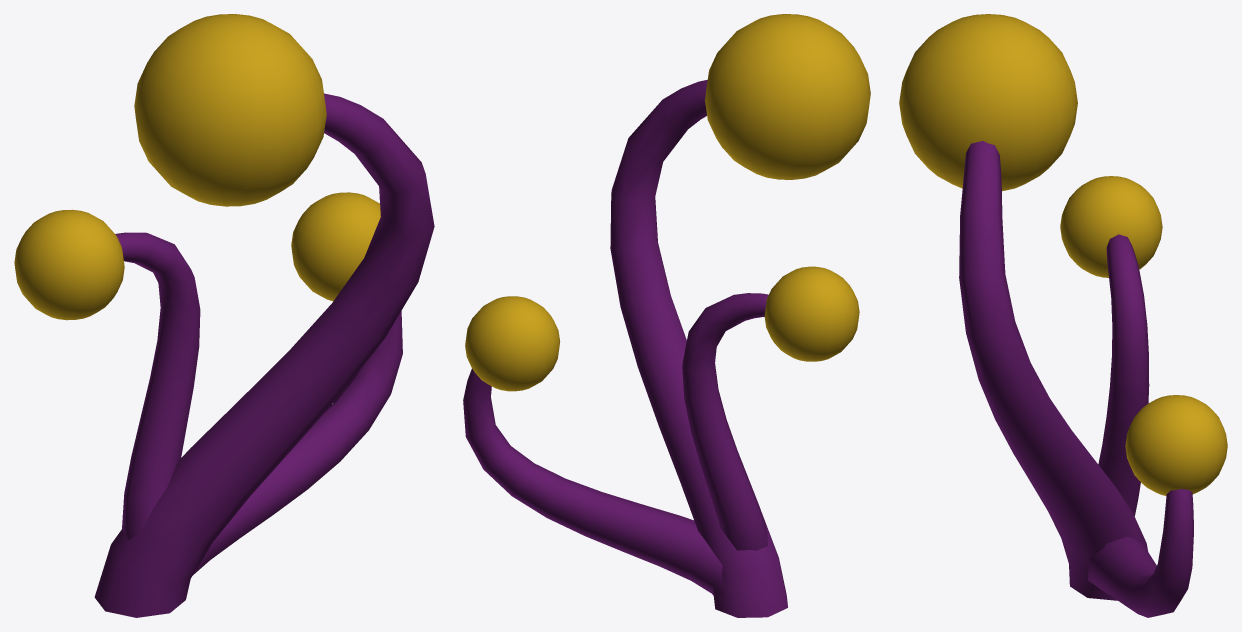
File: Tree Light-om4BJAL82T.glb
3 renders of one model, left to right at view 1: azimuth 30°, elevation 25°; view 2: azimuth 150°, elevation 25°; view 3: azimuth 270°, elevation 25°, orthographic. The views are drawn at different scales.
Visible parts, largest first — view 1: Tree_Light_1; view 2: Tree_Light_1; view 3: Tree_Light_1.
Part boxes in pixels (x1,y1,x2,y2): Tree_Light_1: (14, 14, 434, 617); Tree_Light_1: (463, 14, 870, 617); Tree_Light_1: (899, 14, 1227, 617).
Size of the model in its own units: 2.63 by 3.76 by 1.96.
1 material, 1 textured.
